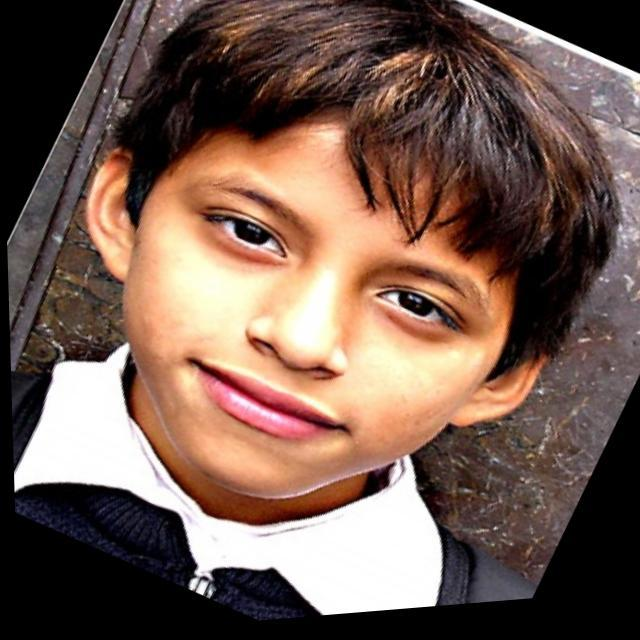Nonhelmet: (82, 0, 621, 508)
